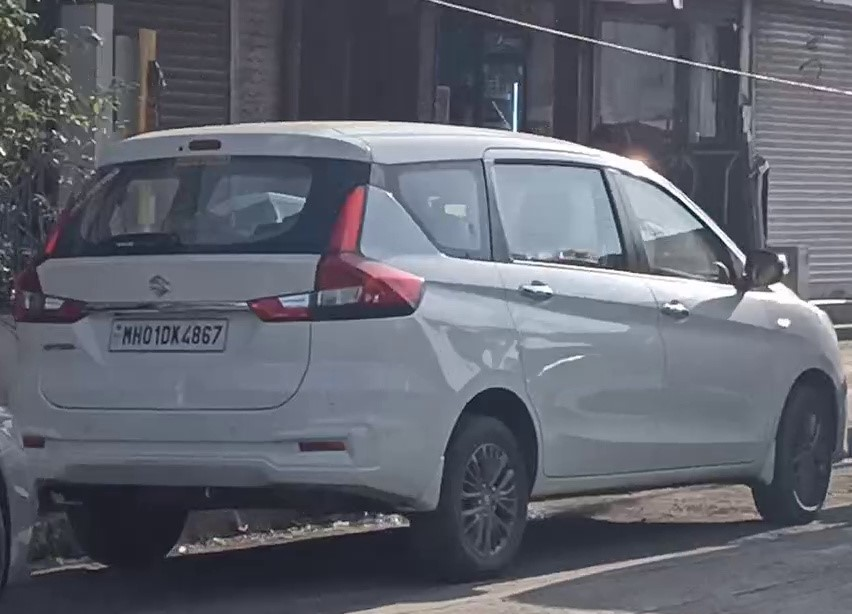MH01DK4867: (108, 318, 230, 351)
